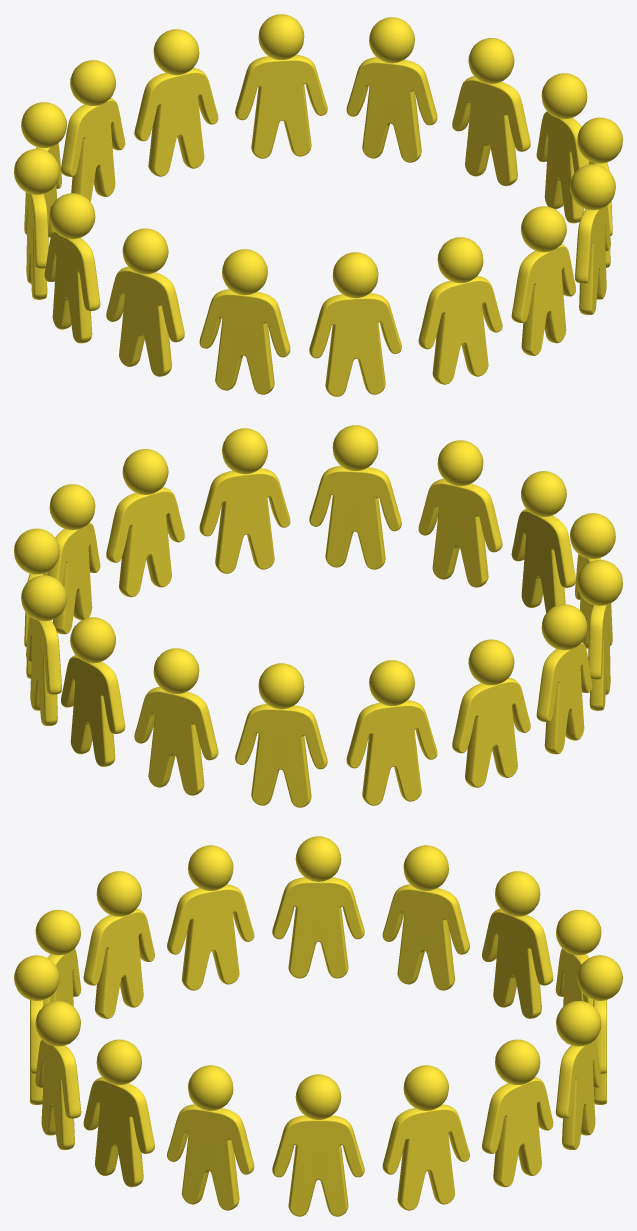
3 views of the same model, one above another, from view 1: azimuth 30°, elevation 25°; view 2: azimuth 150°, elevation 25°; view 3: azimuth 270°, elevation 25° (orthographic).
Visible parts, largest first — view 1: Group; view 2: Group; view 3: Group.
Part boxes in pixels (x1,y1,x2,y2): Group: [14, 14, 622, 396]; Group: [14, 425, 622, 807]; Group: [14, 836, 622, 1216].
Size of the model in its own units: 8.52 by 2.14 by 8.52.
Materials: 1 (1 with a texture image).
